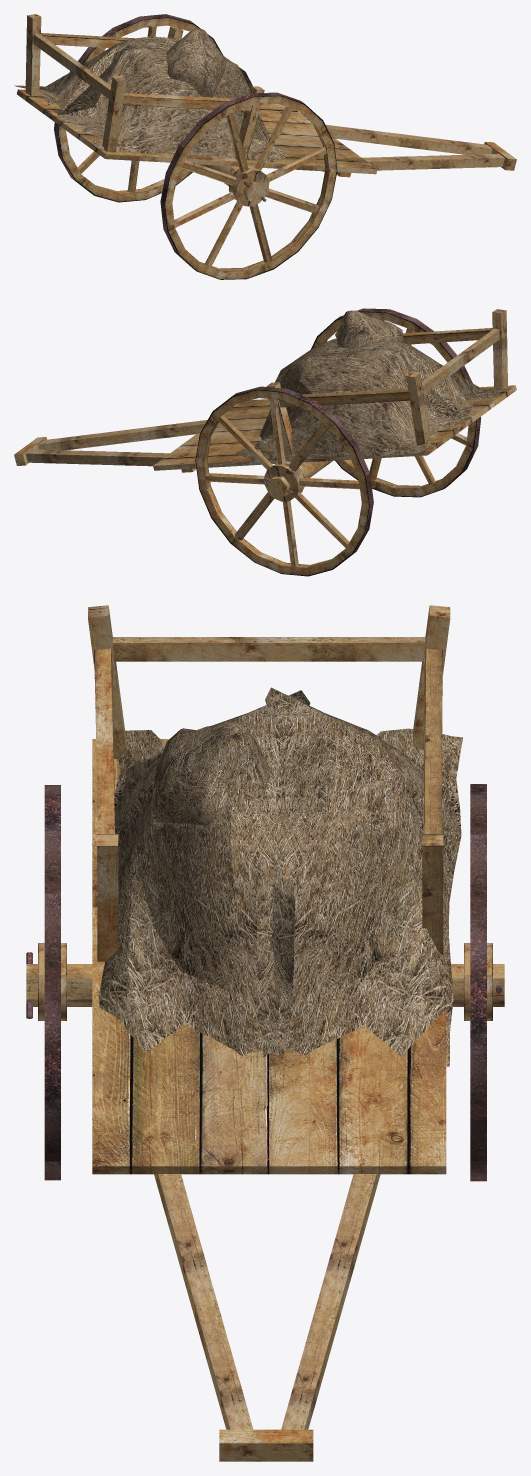
Rendered from haywagon2.fbx.
3 renders of one model, top to bottom at view 1: azimuth 30°, elevation 25°; view 2: azimuth 150°, elevation 25°; view 3: azimuth 270°, elevation 25°, orthographic. The views are drawn at different scales.
Visible parts, largest first — view 1: haywagon2_LOD0; view 2: haywagon2_LOD0; view 3: haywagon2_LOD0.
Boxes of the visible parts, x1,y1,x2,y2 form: haywagon2_LOD0: (14, 14, 516, 279); haywagon2_LOD0: (14, 308, 516, 576); haywagon2_LOD0: (26, 605, 504, 1461).
Size of what is drawn, in the model's own units: 2.76 by 1.3 by 1.28.
